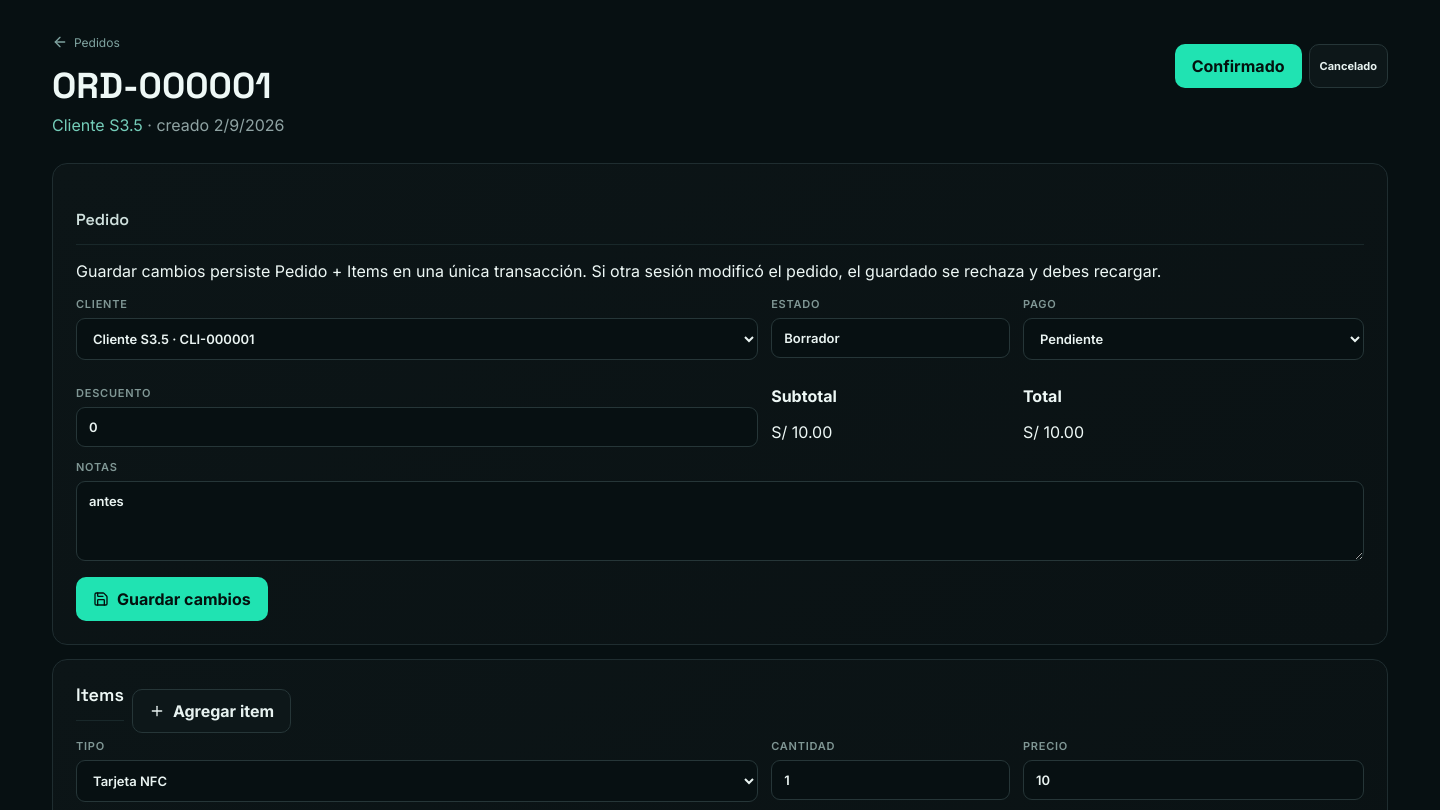
Test: OrderEditor S3.5 transactional editing › shows an actionable conflict instead of silently overwriting stale work
Expected: the heading "ORD-000001" is shown, [52,63,284,109]
Replace the text in the text box labelled "Notas" with "cambio viejo" at (720, 521), box [76,481,1364,561]
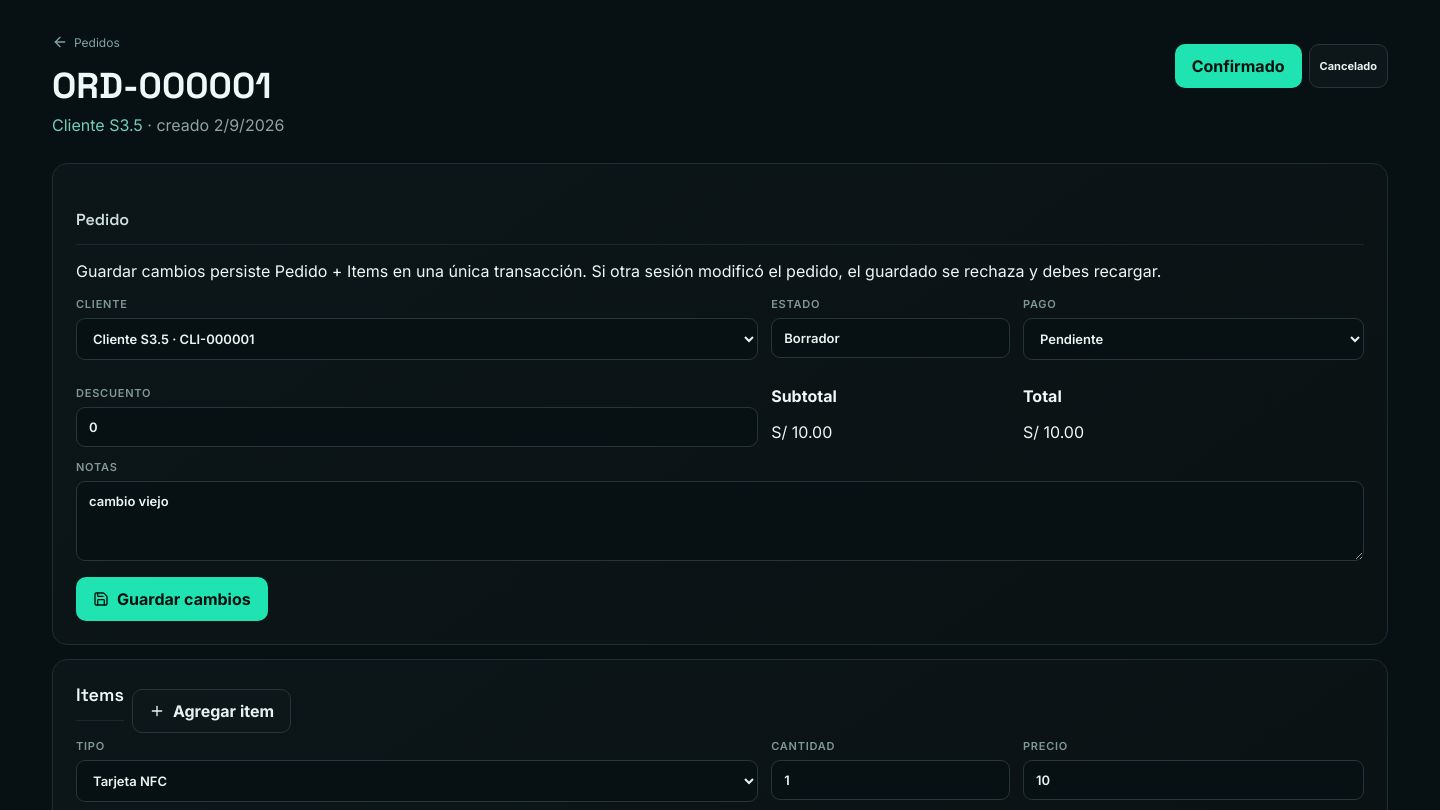
Click the button "Guardar cambios" at (172, 599), box [76,577,268,621]
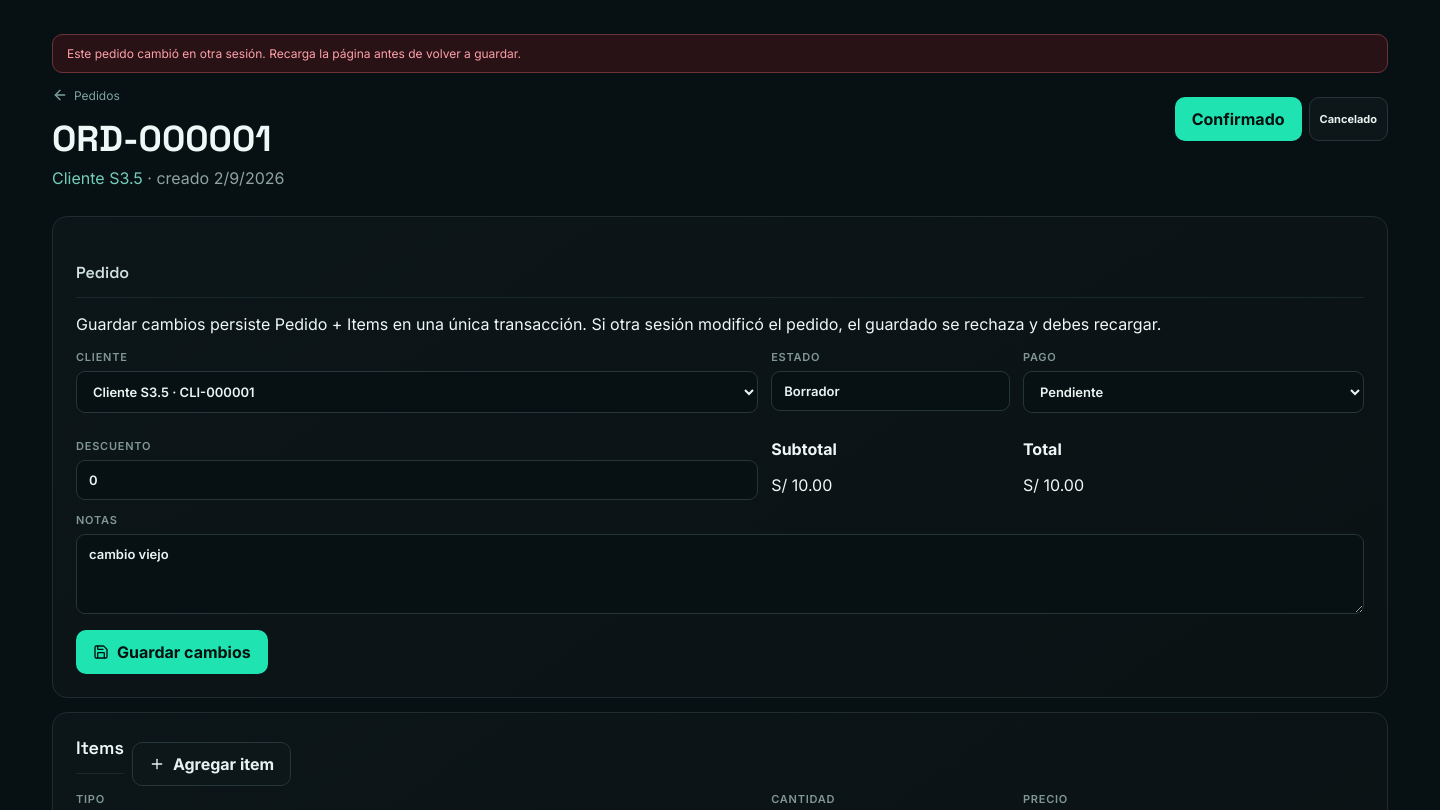
Now the text "cambió en otra sesión" is shown, box [67,46,521,61]
